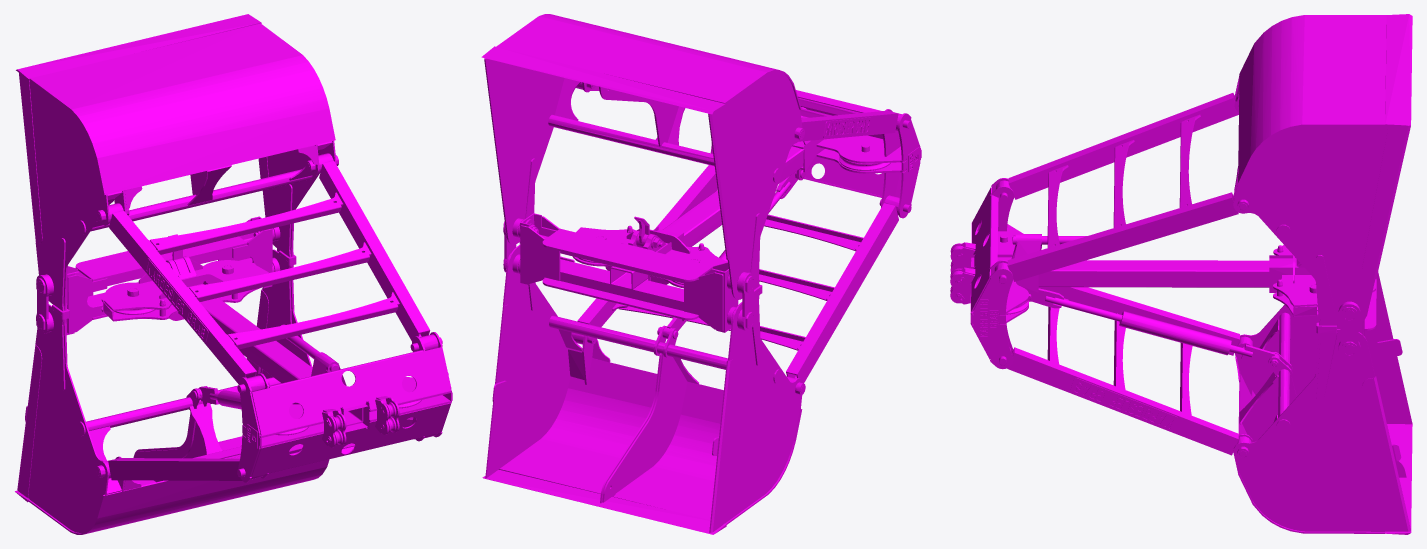
File: MSWG.fbx
3 renders of one model, left to right at view 1: azimuth 30°, elevation 25°; view 2: azimuth 150°, elevation 25°; view 3: azimuth 270°, elevation 25°, orthographic. The views are drawn at different scales.
Visible parts, largest first — view 1: (WG-T01) TEKNE ALT SACI.001, (WG-T02) TEKNE YAN SACI, (WG-T02) TEKNE YAN SACI.003, (WG-K06) KOLLAR.001, (WG-M04) KAFA ÜST SACI.001, (WG-T01) TEKNE ALT SACI, (WG-M04) KAFA ÜST SACI, (WG-K06) KOLLAR, (WG-S18) GÖVDE PROFİLİ, (WG-T06) ALT AĞIZ.001, (WG-K01) KOL SACI.001, (WG-K02) KOL SACI.001 (+25 smaller); view 2: (WG-T01) TEKNE ALT SACI, (WG-T01) TEKNE ALT SACI.001, (WG-T02) TEKNE YAN SACI, (WG-T02) TEKNE YAN SACI.003, (WG-T02) TEKNE YAN SACI.001, (WG-K06) KOLLAR, (WG-T02) TEKNE YAN SACI.002, (WG-T21) ŞASE YAN SACI, (WG-T04) POSTA SACI, (WG-T06) ALT AĞIZ.001, (WG-T06) ALT AĞIZ, (WG-S18) GÖVDE PROFİLİ (+27 smaller); view 3: (WG-T02) TEKNE YAN SACI.001, (WG-T02) TEKNE YAN SACI.002, (WG-T01) TEKNE ALT SACI.001, (WG-K06) KOLLAR.001, (WG-K06) KOLLAR, (WG-S18) GÖVDE PROFİLİ, (WG-T02) TEKNE YAN SACI, (WG-T03) YAN AĞIZ 2, (WG-T03) YAN AĞIZ.001, (WG-T06) ALT AĞIZ.001, (WG-P03) AMORTİSÖR, (WG-M10) KAFA YAN DIŞ SACI.001 (+22 smaller).
Part boxes in pixels (bbox=[...]): (WG-T01) TEKNE ALT SACI.001: bbox=[29, 23, 335, 195]; (WG-T02) TEKNE YAN SACI: bbox=[28, 304, 108, 532]; (WG-T02) TEKNE YAN SACI.003: bbox=[29, 79, 109, 310]; (WG-K06) KOLLAR.001: bbox=[108, 153, 438, 391]; (WG-M04) KAFA ÜST SACI.001: bbox=[251, 347, 450, 435]; (WG-T01) TEKNE ALT SACI: bbox=[28, 449, 329, 534]; (WG-M04) KAFA ÜST SACI: bbox=[251, 403, 450, 477]; (WG-K06) KOLLAR: bbox=[104, 417, 437, 480]; (WG-S18) GÖVDE PROFİLİ: bbox=[196, 298, 363, 426]; (WG-T06) ALT AĞIZ.001: bbox=[16, 14, 261, 78]; (WG-K01) KOL SACI.001: bbox=[150, 197, 341, 254]; (WG-K02) KOL SACI.001: bbox=[189, 247, 369, 301]; (WG-T01) TEKNE ALT SACI: bbox=[498, 358, 802, 524]; (WG-T01) TEKNE ALT SACI.001: bbox=[496, 14, 801, 109]; (WG-T02) TEKNE YAN SACI: bbox=[723, 302, 802, 523]; (WG-T02) TEKNE YAN SACI.003: bbox=[722, 71, 802, 299]; (WG-T02) TEKNE YAN SACI.001: bbox=[498, 244, 570, 468]; (WG-K06) KOLLAR: bbox=[571, 165, 899, 383]; (WG-T02) TEKNE YAN SACI.002: bbox=[498, 61, 564, 244]; (WG-T21) ŞASE YAN SACI: bbox=[542, 228, 713, 281]; (WG-T04) POSTA SACI: bbox=[600, 353, 687, 503]; (WG-T06) ALT AĞIZ.001: bbox=[481, 46, 724, 114]; (WG-T06) ALT AĞIZ: bbox=[482, 469, 726, 534]; (WG-S18) GÖVDE PROFİLİ: bbox=[610, 146, 803, 290]; (WG-T02) TEKNE YAN SACI.001: bbox=[1233, 329, 1388, 531]; (WG-T02) TEKNE YAN SACI.002: bbox=[1233, 126, 1388, 326]; (WG-T01) TEKNE ALT SACI.001: bbox=[1238, 15, 1386, 183]; (WG-K06) KOLLAR.001: bbox=[994, 93, 1238, 281]; (WG-K06) KOLLAR: bbox=[1007, 287, 1252, 455]; (WG-S18) GÖVDE PROFİLİ: bbox=[1038, 260, 1269, 287]; (WG-T02) TEKNE YAN SACI: bbox=[1240, 304, 1389, 423]; (WG-T03) YAN AĞIZ 2: bbox=[1362, 376, 1410, 531]; (WG-T03) YAN AĞIZ.001: bbox=[1362, 125, 1410, 279]; (WG-T06) ALT AĞIZ.001: bbox=[1385, 14, 1412, 126]; (WG-P03) AMORTİSÖR: bbox=[1119, 311, 1274, 366]; (WG-M10) KAFA YAN DIŞ SACI.001: bbox=[970, 268, 1013, 369].
Size of the model in its own units: 2.13 by 3.53 by 3.59.
